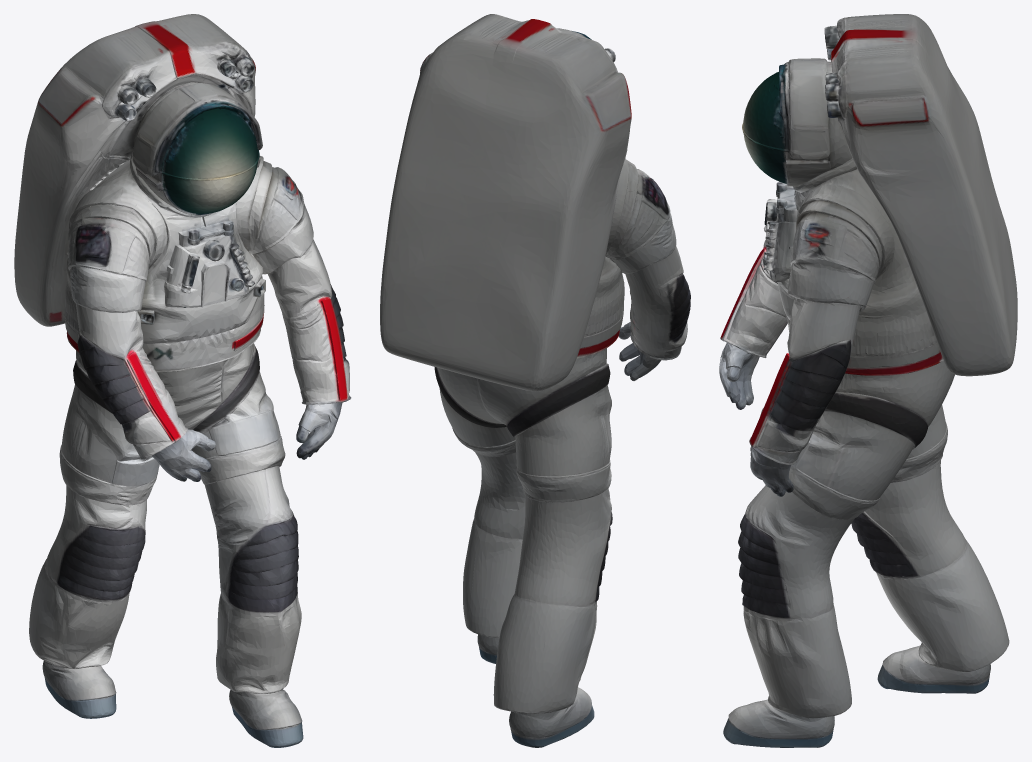
Rendered from astronauta.glb.
The picture shows the model from 3 angles, left to right: view 1: azimuth 30°, elevation 25°; view 2: azimuth 150°, elevation 25°; view 3: azimuth 270°, elevation 25°; orthographic projection. The views are drawn at different scales.
Parts seen in each view (by area): view 1: mesh_0; view 2: mesh_0; view 3: mesh_0.
Boxes of the visible parts, x1,y1,x2,y2 form: mesh_0: [14, 14, 351, 747]; mesh_0: [380, 14, 690, 747]; mesh_0: [719, 14, 1017, 747].
Size of the model in its own units: 0.0407 by 0.1 by 0.0399.
Materials: 1 (1 with a texture image).
